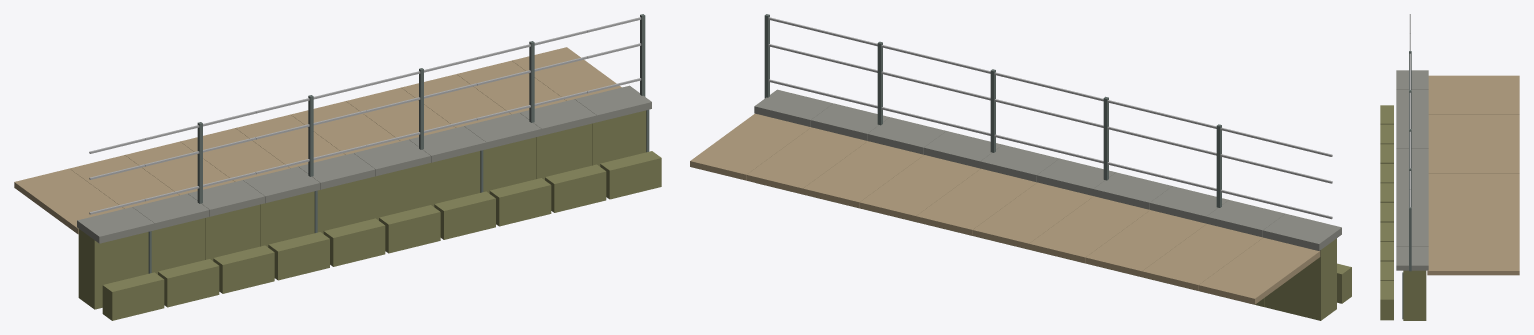
Rendered from SM_MuroRampa_v1_BajoValla_e0_Sano_LOD0.fbx.
3 views of the same model, side by side, from view 1: azimuth 30°, elevation 25°; view 2: azimuth 150°, elevation 25°; view 3: azimuth 270°, elevation 25° (orthographic). The views are drawn at different scales.
Visible parts, largest first — view 1: SM_muro_rampa_v4_LOD0; view 2: SM_muro_rampa_v4_LOD0; view 3: SM_muro_rampa_v4_LOD0.
Part boxes in pixels (left/top/right/bottom): SM_muro_rampa_v4_LOD0: left=14, top=14, right=661, bottom=320; SM_muro_rampa_v4_LOD0: left=690, top=14, right=1351, bottom=320; SM_muro_rampa_v4_LOD0: left=1380, top=14, right=1519, bottom=320.
Bounding box in the file's own units: 10.03 × 2.7 × 3.02.
